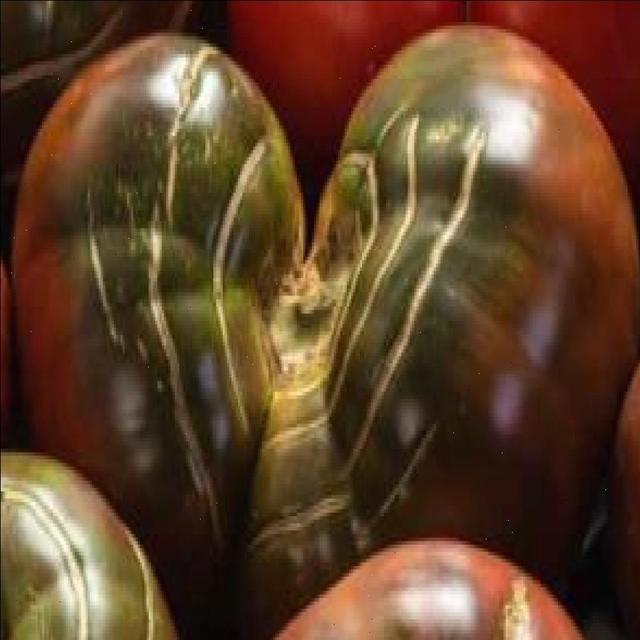Cracking Fruit: (20, 90, 280, 382)
